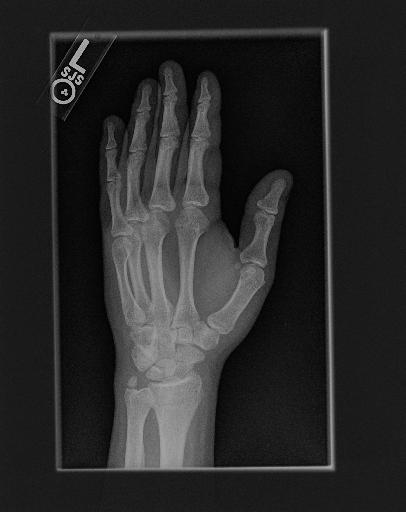fractured: (148, 392, 202, 414)
